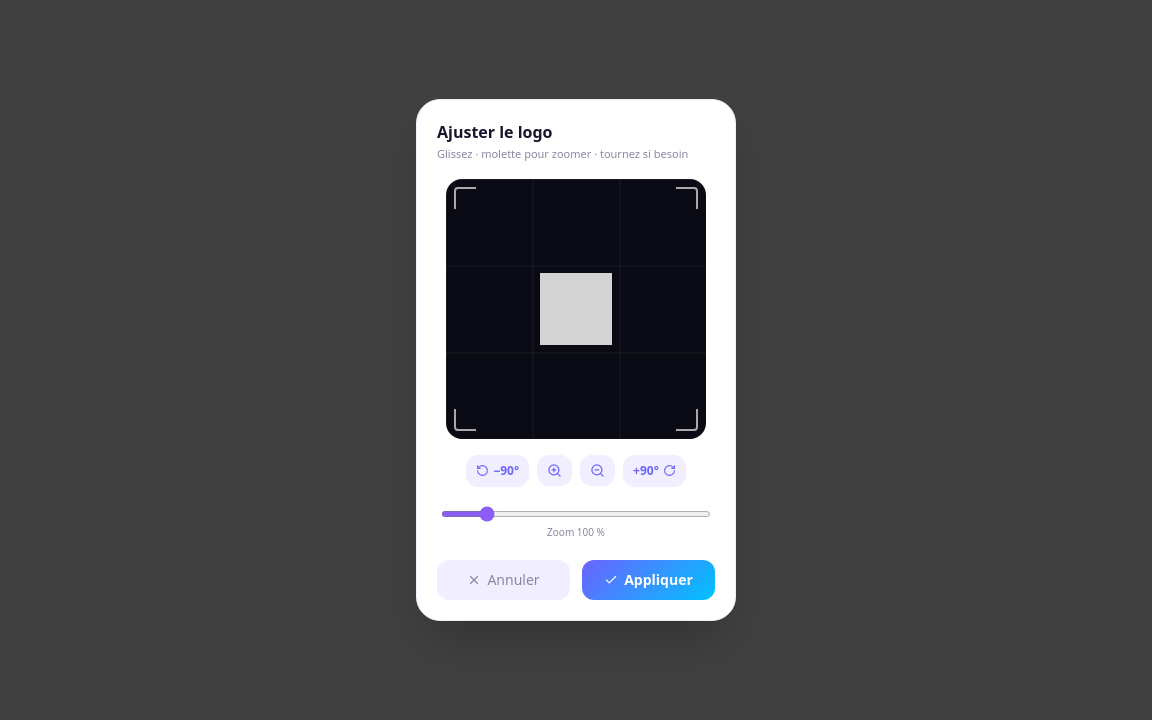
LogoCropperModal — slider de zoom › changer le slider met à jour l'affichage du zoom
The width and height of the screenshot is (1152, 720).
Set the slider to "200". click: (541, 514)
box: top-left (441, 511), bottom-right (711, 517)
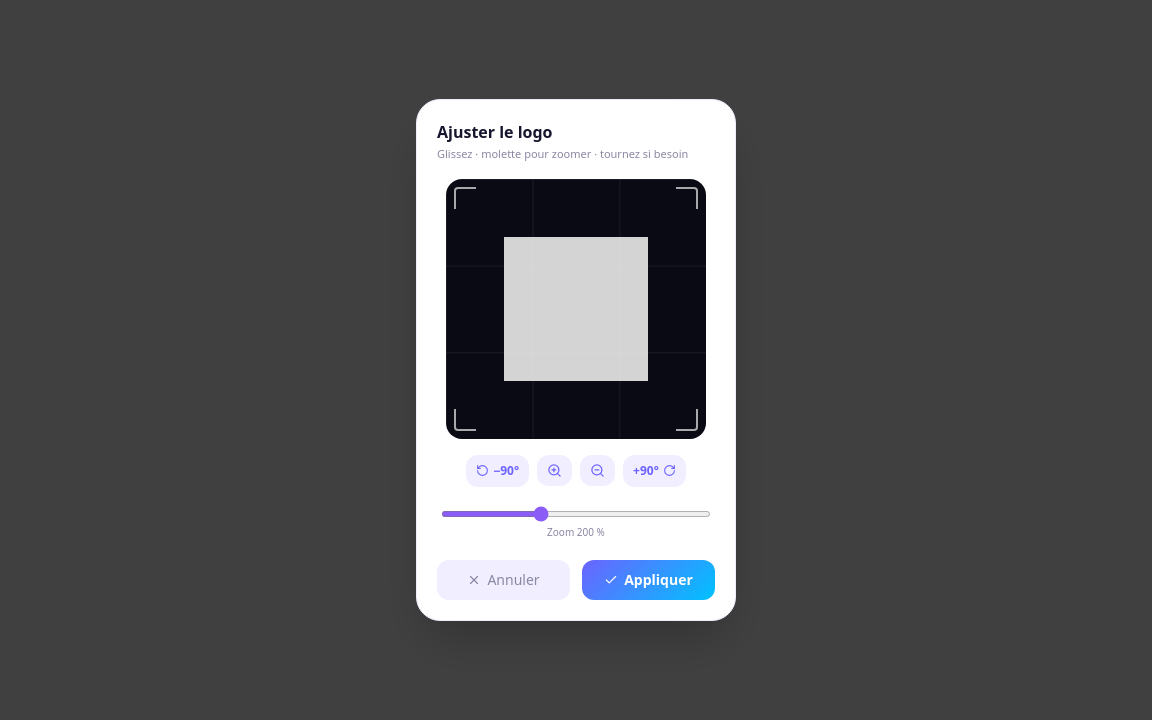
Expected: the text "Zoom 200 %" is shown, top-left (547, 525), bottom-right (605, 539)
